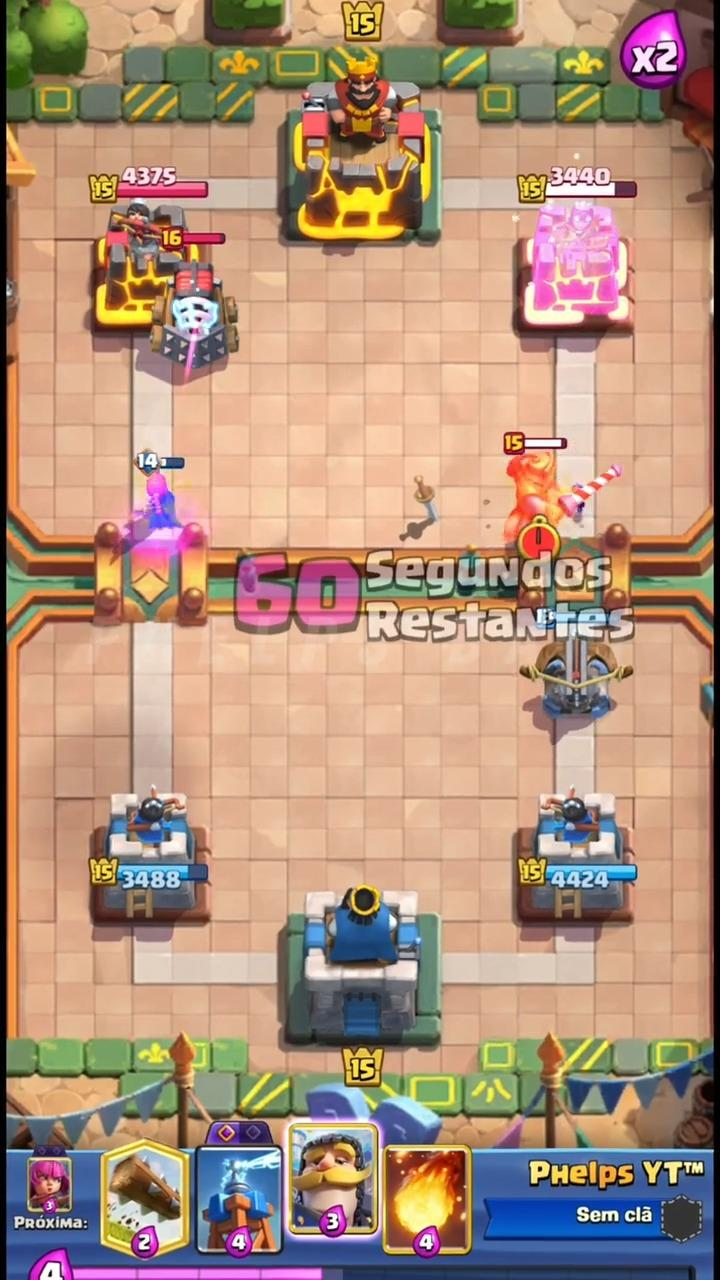archer: (145, 470, 180, 531)
prince: (504, 450, 621, 544)
sparky: (151, 262, 238, 380)
x-bow: (520, 638, 632, 720)
